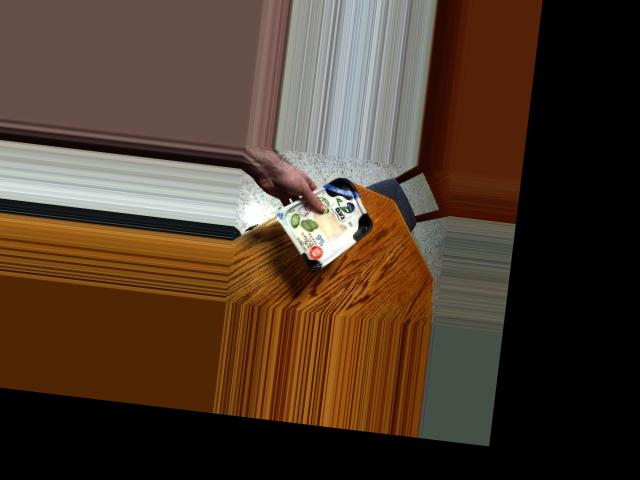cheese: (287, 179, 378, 267)
